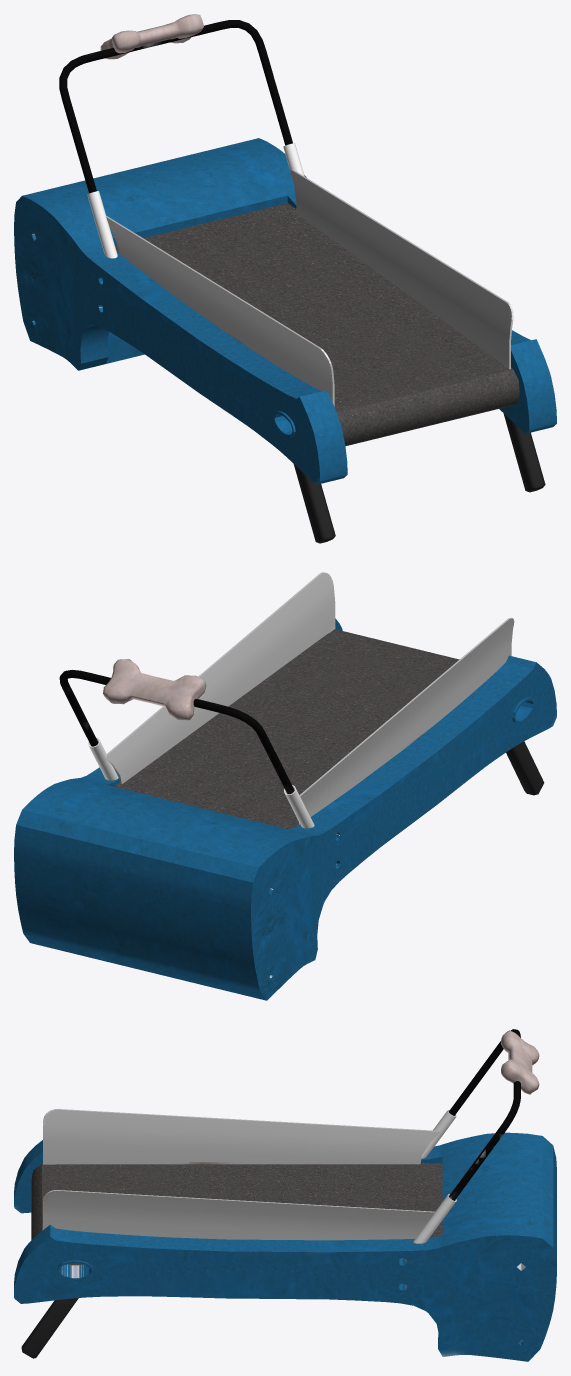
Rendered from treadmill.fbx.
3 views of the same model, one above another, from view 1: azimuth 30°, elevation 25°; view 2: azimuth 150°, elevation 25°; view 3: azimuth 270°, elevation 25° (orthographic). The views are drawn at different scales.
Parts seen in each view (by area): view 1: treadmill:polySurface1, treadmill:polySurface7, treadmill:pCube3, treadmill:pCube4, treadmill:planarTrimmedSurface1, treadmill:polySurface4, treadmill:pCube5, treadmill:pCube2, treadmill:pCube1, treadmill:polySurface5; view 2: treadmill:polySurface1, treadmill:polySurface7, treadmill:pCube3, treadmill:pCube4, treadmill:planarTrimmedSurface1, treadmill:pCube5, treadmill:polySurface4, treadmill:pCube2, treadmill:polySurface5, treadmill:polySurface6; view 3: treadmill:planarTrimmedSurface1, treadmill:pCube4, treadmill:polySurface7, treadmill:pCube3, treadmill:polySurface1, treadmill:polySurface4, treadmill:pCube5, treadmill:pCube1, treadmill:polySurface6, treadmill:polySurface5.
Boxes of the visible parts, box(x1,y1,x2,y2) form: treadmill:polySurface1: box(14, 144, 347, 484); treadmill:polySurface7: box(115, 203, 519, 446); treadmill:pCube3: box(290, 170, 513, 369); treadmill:pCube4: box(106, 216, 334, 406); treadmill:planarTrimmedSurface1: box(232, 138, 556, 433); treadmill:polySurface4: box(59, 20, 292, 193); treadmill:pCube5: box(100, 14, 203, 59); treadmill:pCube2: box(293, 464, 335, 543); treadmill:pCube1: box(503, 413, 545, 492); treadmill:polySurface5: box(87, 191, 117, 258); treadmill:polySurface1: box(41, 655, 556, 1000); treadmill:polySurface7: box(114, 629, 459, 828); treadmill:pCube3: box(105, 572, 335, 784); treadmill:pCube4: box(297, 617, 514, 825); treadmill:planarTrimmedSurface1: box(14, 618, 342, 949); treadmill:pCube5: box(103, 659, 206, 720); treadmill:polySurface4: box(59, 670, 294, 794); treadmill:pCube2: box(506, 741, 544, 795); treadmill:polySurface5: box(284, 785, 314, 828); treadmill:polySurface6: box(88, 737, 118, 780); treadmill:planarTrimmedSurface1: box(14, 1223, 556, 1361); treadmill:pCube4: box(43, 1109, 441, 1164); treadmill:polySurface7: box(31, 1163, 442, 1265); treadmill:pCube3: box(43, 1190, 434, 1240); treadmill:polySurface1: box(14, 1132, 556, 1257); treadmill:polySurface4: box(448, 1029, 520, 1200); treadmill:pCube5: box(501, 1030, 539, 1094); treadmill:pCube1: box(21, 1298, 78, 1358); treadmill:polySurface6: box(413, 1194, 456, 1243); treadmill:polySurface5: box(421, 1109, 456, 1158).
Bounding box in the file's own units: 0.1011 × 0.1193 × 0.2225.
